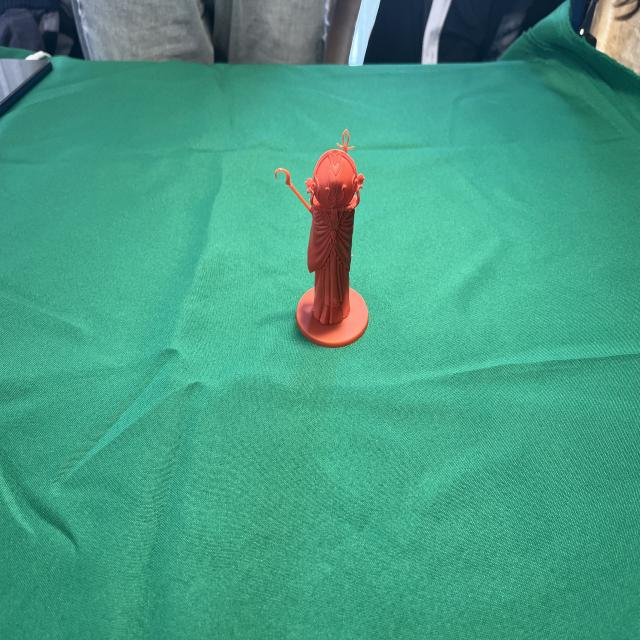amon: (273, 124, 373, 354)
